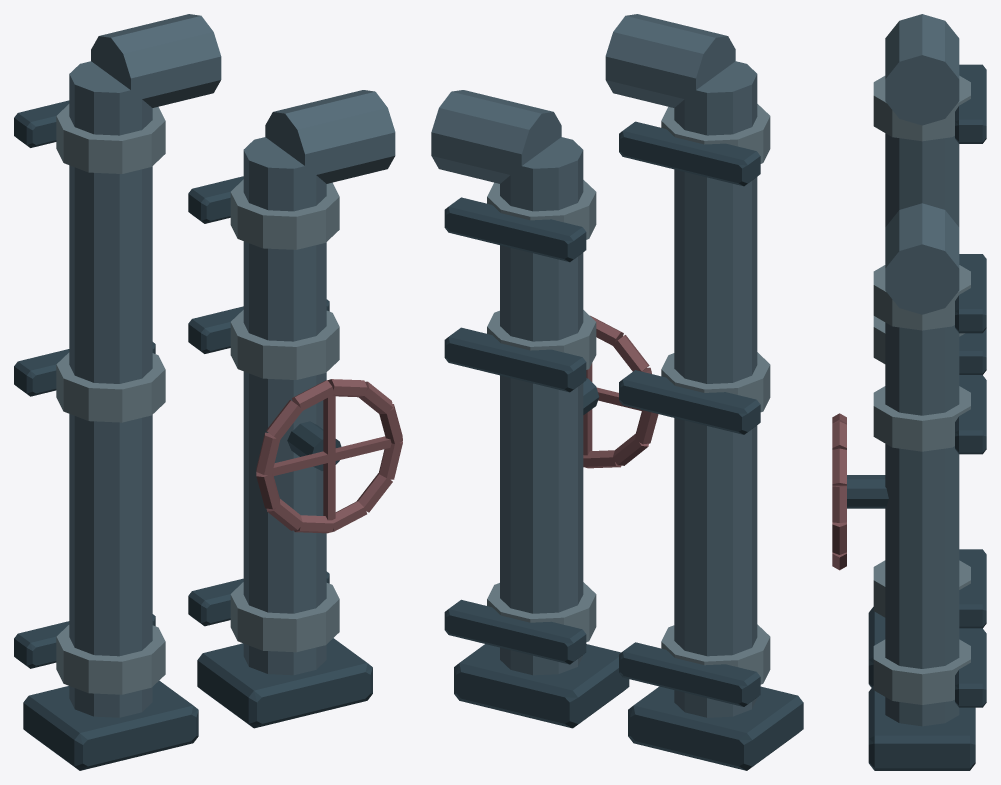
File: 02_PipeAssembly.obj
The picture shows the model from 3 angles, left to right: view 1: azimuth 30°, elevation 25°; view 2: azimuth 150°, elevation 25°; view 3: azimuth 270°, elevation 25°; orthographic projection. The views are drawn at different scales.
Bounding box in the file's own units: 1.45 × 2.96 × 0.6353.
